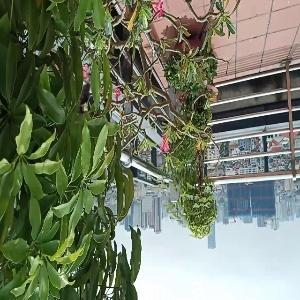drone: (55, 63, 118, 126)
